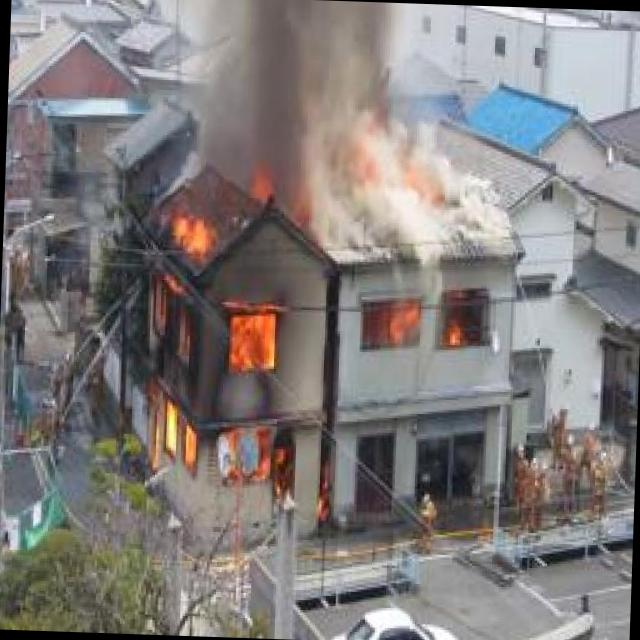Fire: (134, 211, 302, 515), (354, 295, 487, 348)
Smoke: (181, 0, 531, 263)
